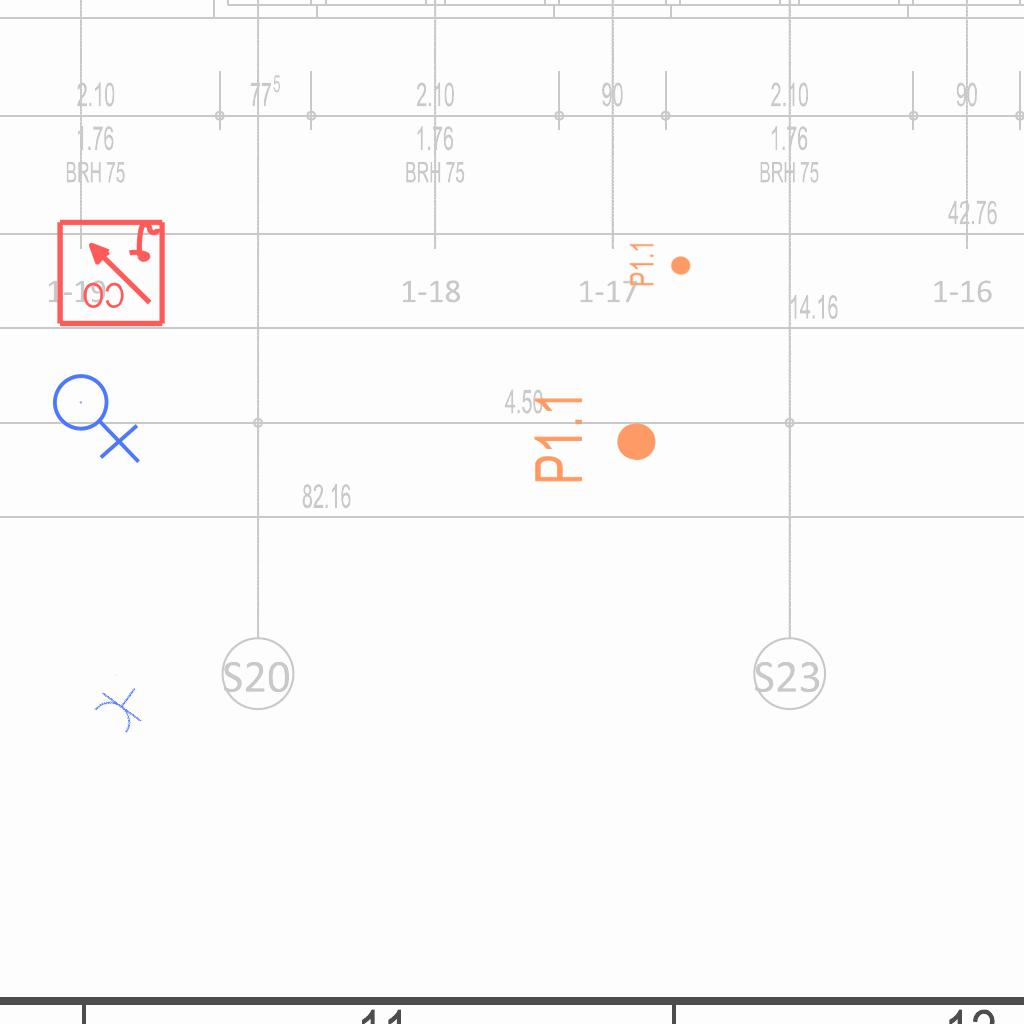Downlight_LED_Einbauleuchten_Flur: (531, 392, 659, 485), (628, 241, 692, 287)
Elektroanschluss_allgemein_230V_Geraeteanschlussdose_230V: (51, 365, 145, 464)
ROA_Rauchmelder_optisch_mit_Signalgeber_(Sockelsirene): (54, 215, 167, 328)
Schukosteckdose_einfach: (89, 673, 155, 738)
